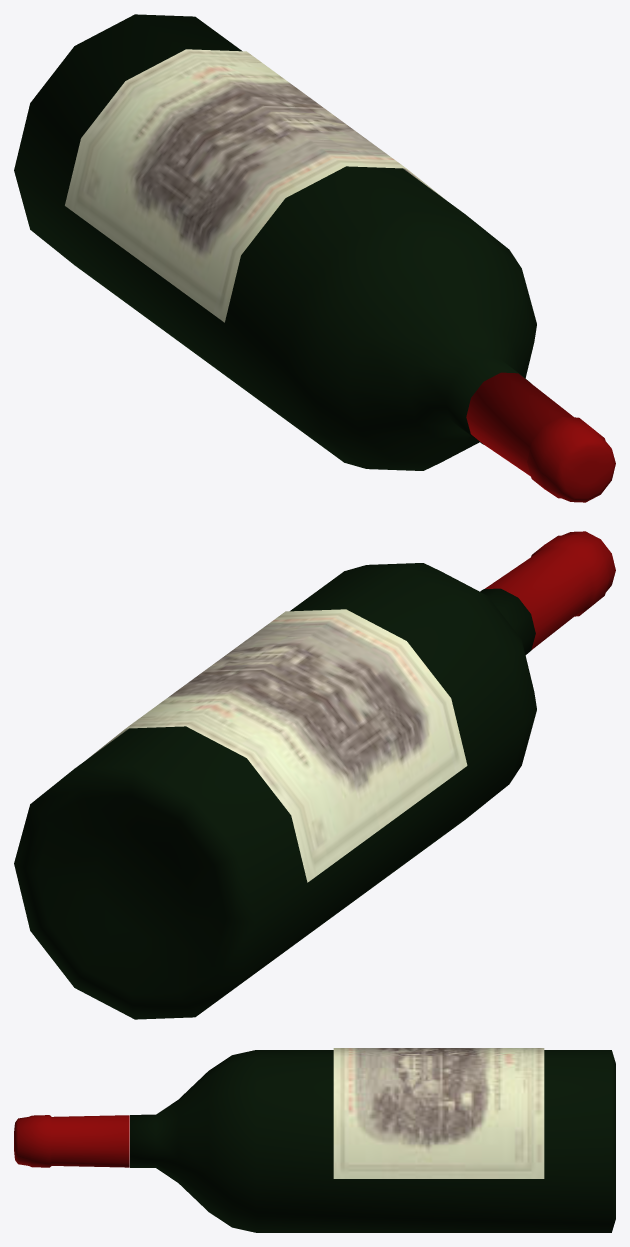
Rendered from magnum.glb.
The picture shows the model from 3 angles, top to bottom: view 1: azimuth 30°, elevation 25°; view 2: azimuth 150°, elevation 25°; view 3: azimuth 270°, elevation 25°; orthographic projection. The views are drawn at different scales.
Visible parts, largest first — view 1: bot new, labelwine2, prop2 simple.001; view 2: bot new, labelwine2, prop2 simple.001; view 3: bot new, labelwine2, prop2 simple.001.
Boxes of the visible parts, x1=… form: bot new: x1=14, y1=14, x2=536, y2=470; labelwine2: x1=65, y1=49, x2=444, y2=322; prop2 simple.001: x1=466, y1=372, x2=615, y2=502; bot new: x1=14, y1=563, x2=536, y2=1019; labelwine2: x1=88, y1=609, x2=467, y2=882; prop2 simple.001: x1=485, y1=531, x2=615, y2=649; bot new: x1=130, y1=1050, x2=615, y2=1232; labelwine2: x1=333, y1=1048, x2=544, y2=1178; prop2 simple.001: x1=14, y1=1115, x2=129, y2=1167.
Bounding box in the file's own units: 0.1104 × 0.1111 × 0.3603.
Materials: 3 (1 with a texture image).
